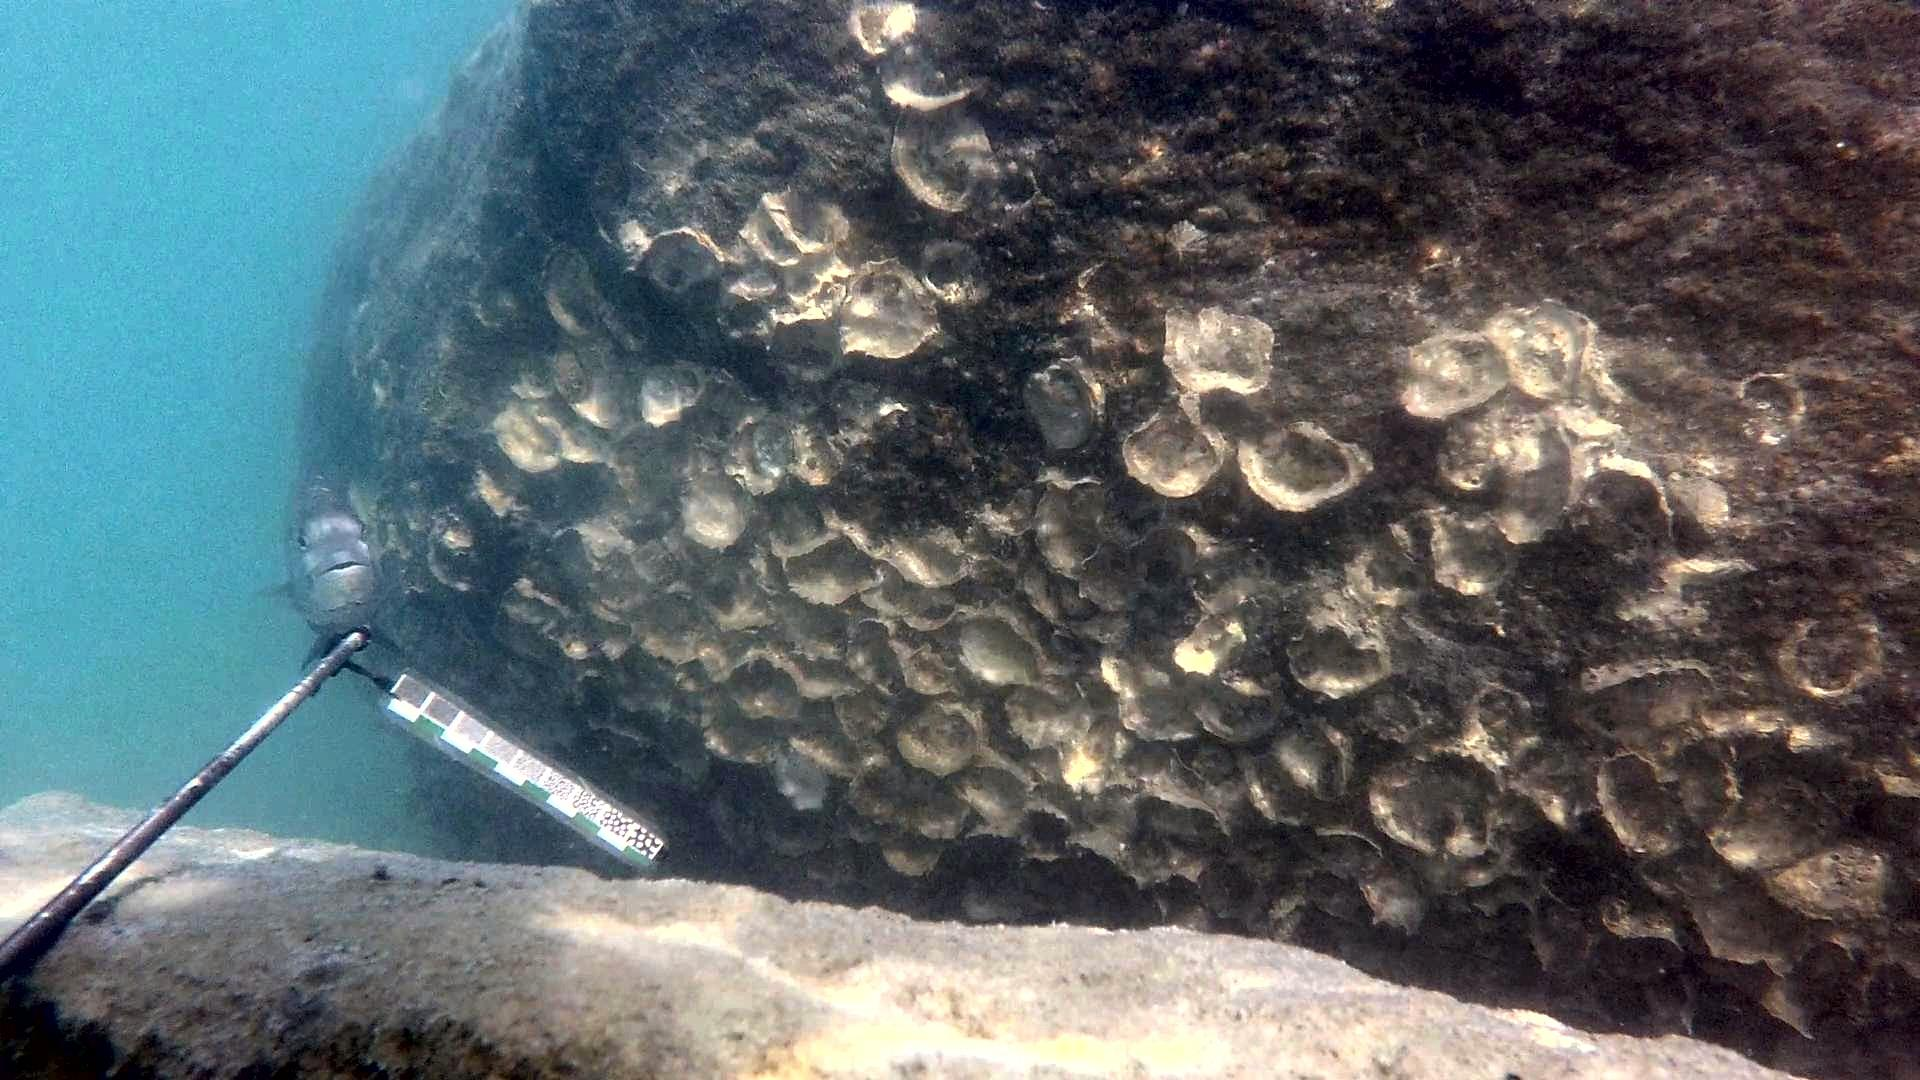acanthopagrus palmaris: (270, 448, 389, 671)
